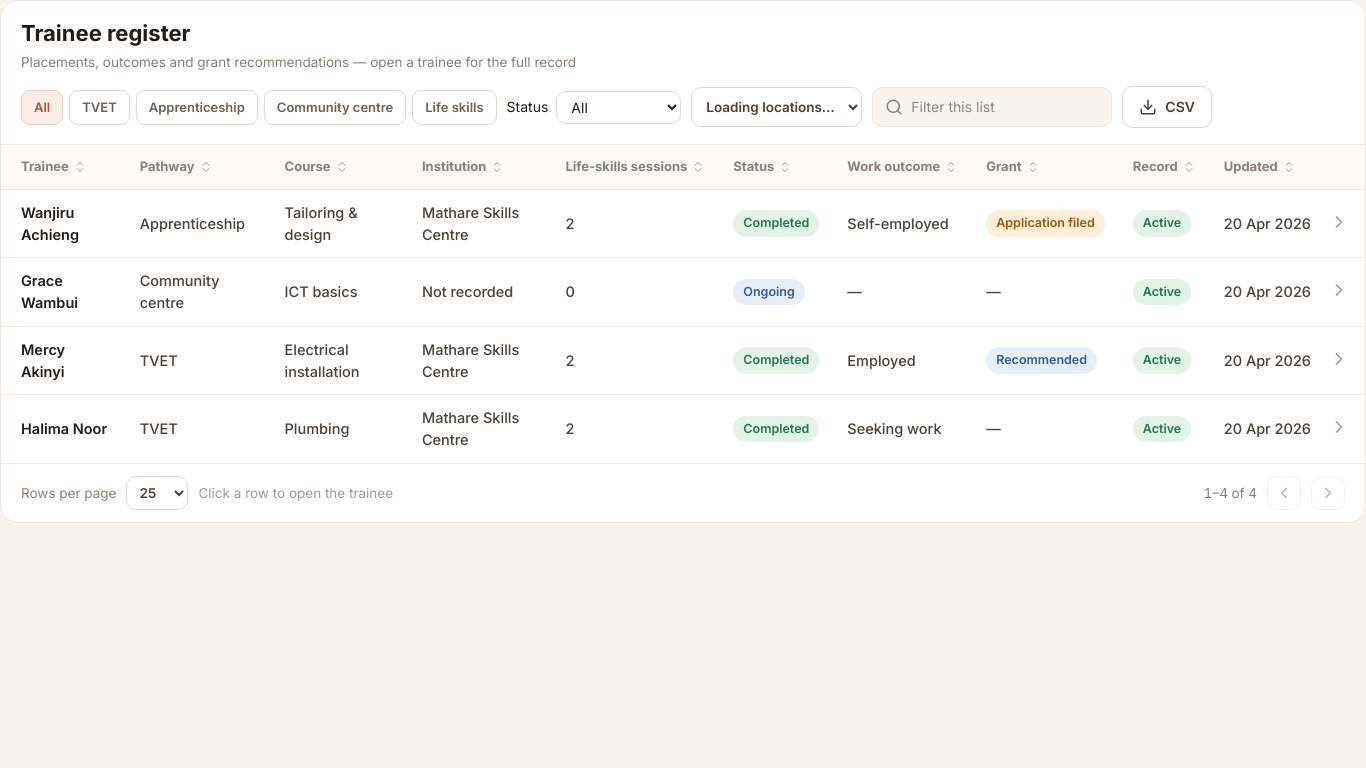
Scenario: trainee drawer › ends the overview with the record's status and dates
Click the button named "Open Wanjiru Achieng" at x=1339, y=222, box [1327,210,1351,234]
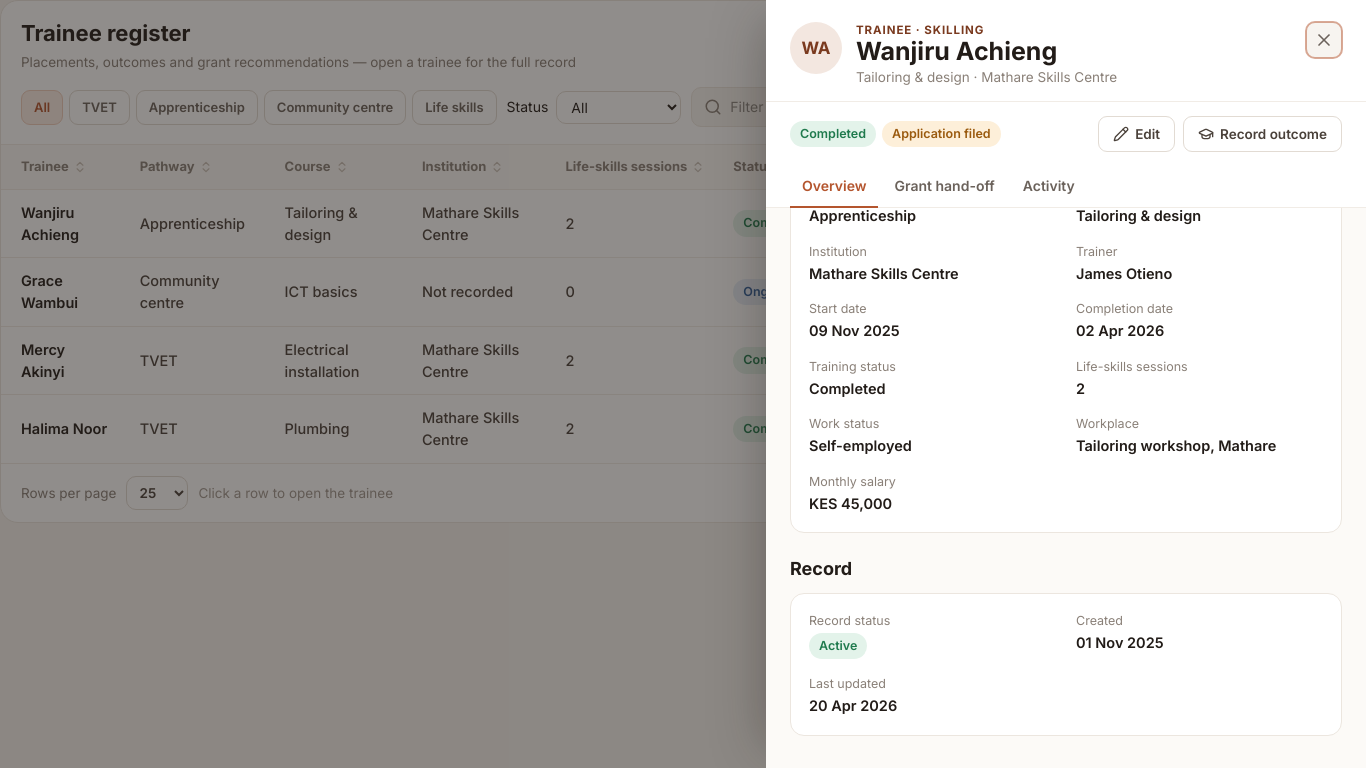
Now the text "Active" is shown, box [809,633,867,659]
